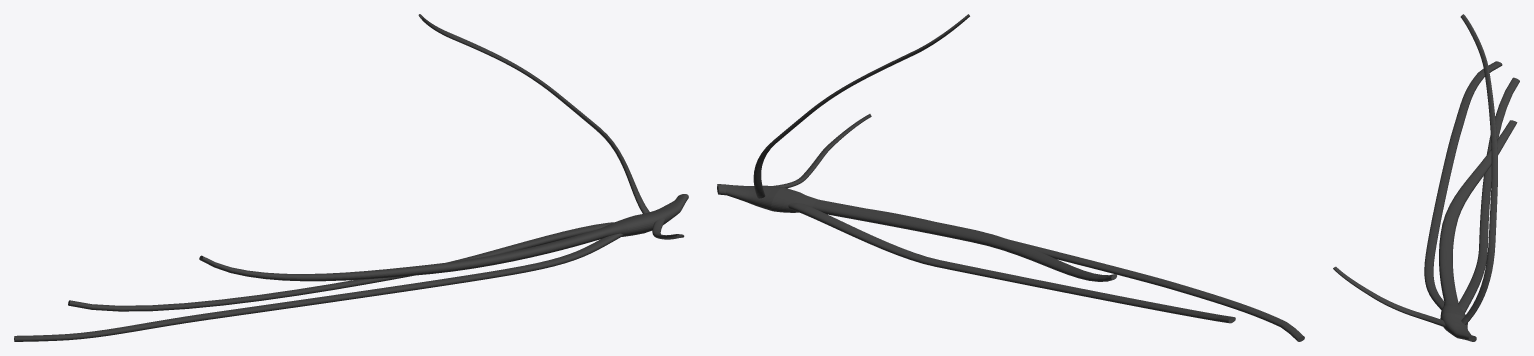
The model's file is N_5_Pterygopalatine_ganglion.glb.
3 views of the same model, side by side, from view 1: azimuth 30°, elevation 25°; view 2: azimuth 150°, elevation 25°; view 3: azimuth 270°, elevation 25° (orthographic). The views are drawn at different scales.
Parts seen in each view (by area): view 1: N_5_Pterygopalatine_ganglion; view 2: N_5_Pterygopalatine_ganglion; view 3: N_5_Pterygopalatine_ganglion.
Part boxes in pixels (<box>): N_5_Pterygopalatine_ganglion: <box>14,14,688,341</box>; N_5_Pterygopalatine_ganglion: <box>717,14,1304,341</box>; N_5_Pterygopalatine_ganglion: <box>1333,14,1519,341</box>.
Size of the model in its own units: 0.0749 by 0.0296 by 0.0218.
Materials: 1 (1 with a texture image).
